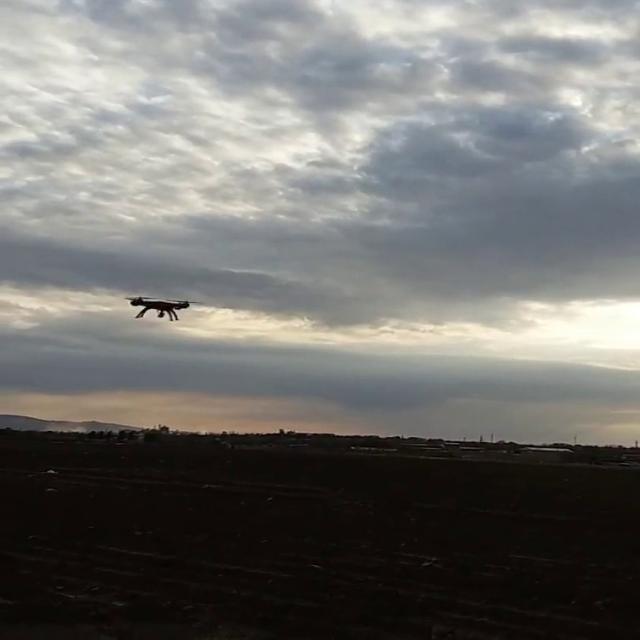drone: (120, 293, 200, 323)
